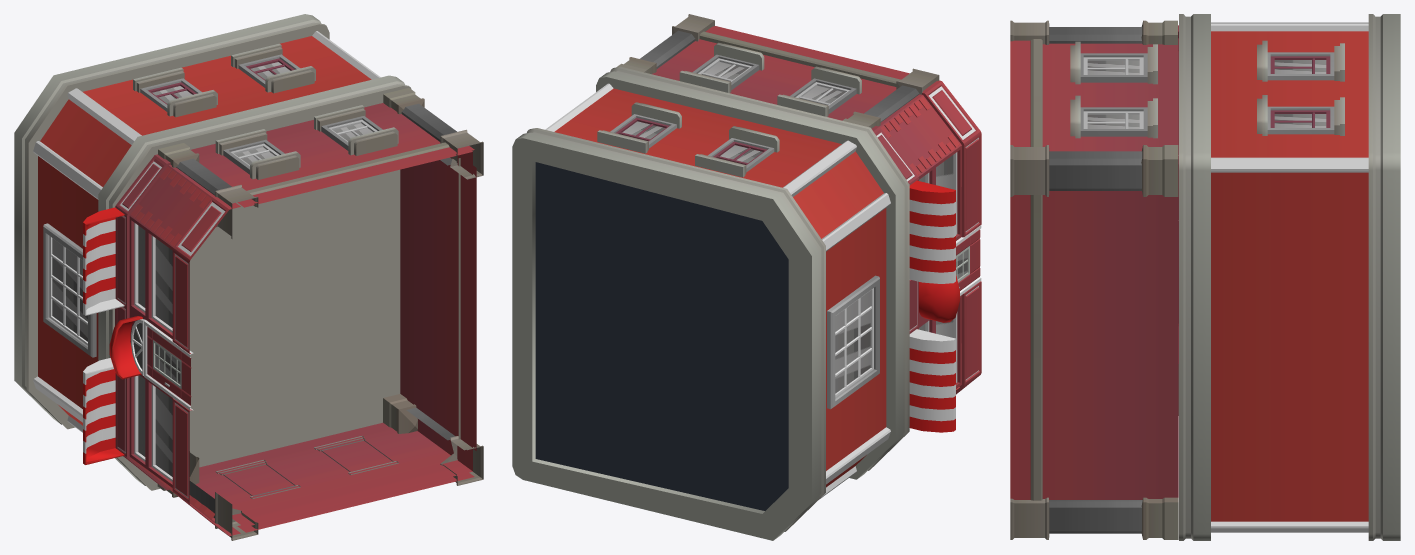
File: Building_3_2_G.fbx
3 views of the same model, side by side, from view 1: azimuth 30°, elevation 25°; view 2: azimuth 150°, elevation 25°; view 3: azimuth 270°, elevation 25° (orthographic). The views are drawn at different scales.
Parts seen in each view (by area): view 1: Building 3_2_G; view 2: Building 3_2_G; view 3: Building 3_2_G.
Part boxes in pixels (x1,y1,x2,y2): Building 3_2_G: [14, 14, 483, 540]; Building 3_2_G: [512, 14, 981, 540]; Building 3_2_G: [1010, 14, 1400, 540].
Size of the model in its own units: 820 by 816 by 726.
